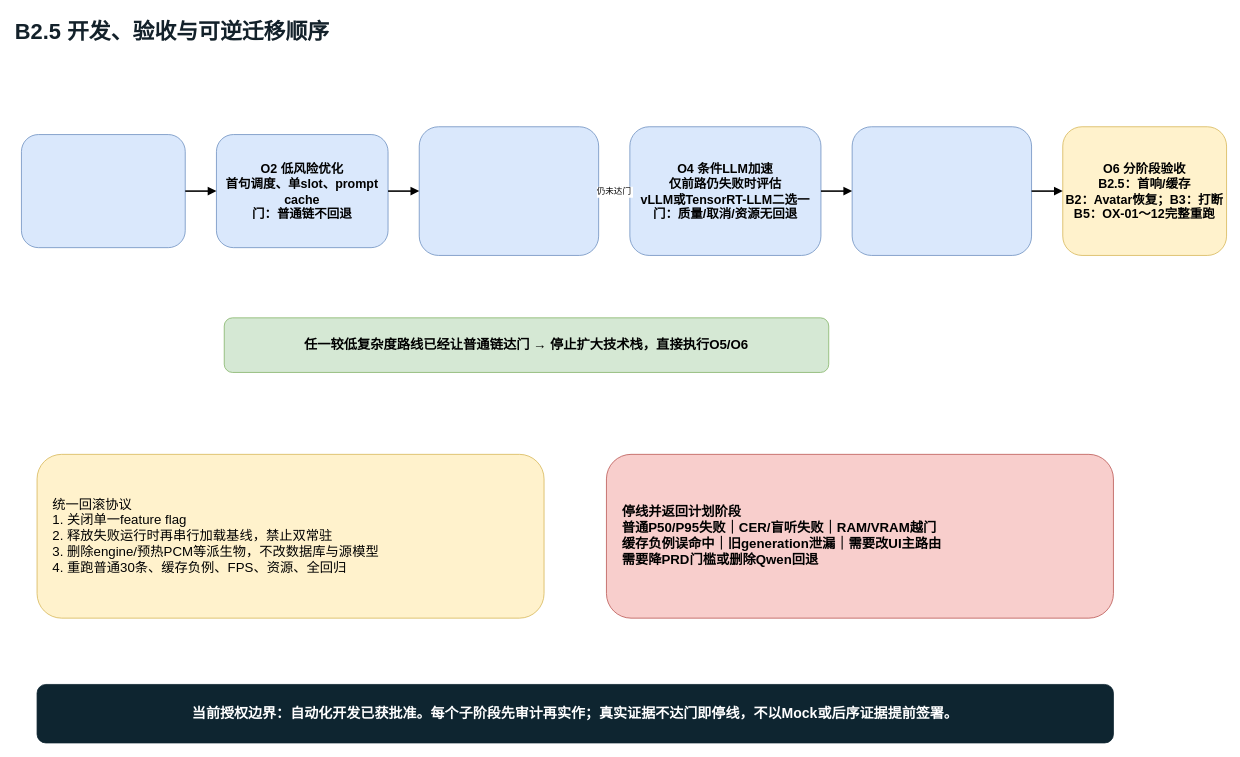
This 1240x757 diagram has some shape labels left out. Here are the shapes that lost their labels. From the top down, the centre of each, then its label:
the point at 103,191: O1 计量基线 浏览器首个非静音确认 三类分桶、30条复跑 门：口径可重复
the point at 508,190: O3 Cosy TensorRT 固定engine版本与哈希 30条质量/全链/资源 门：可回退且达硬门
the point at 941,190: O5 严格问候预热 ≤6项/≤64MiB/零落盘 正例命中、负例零误命中 门：版本失效正确
